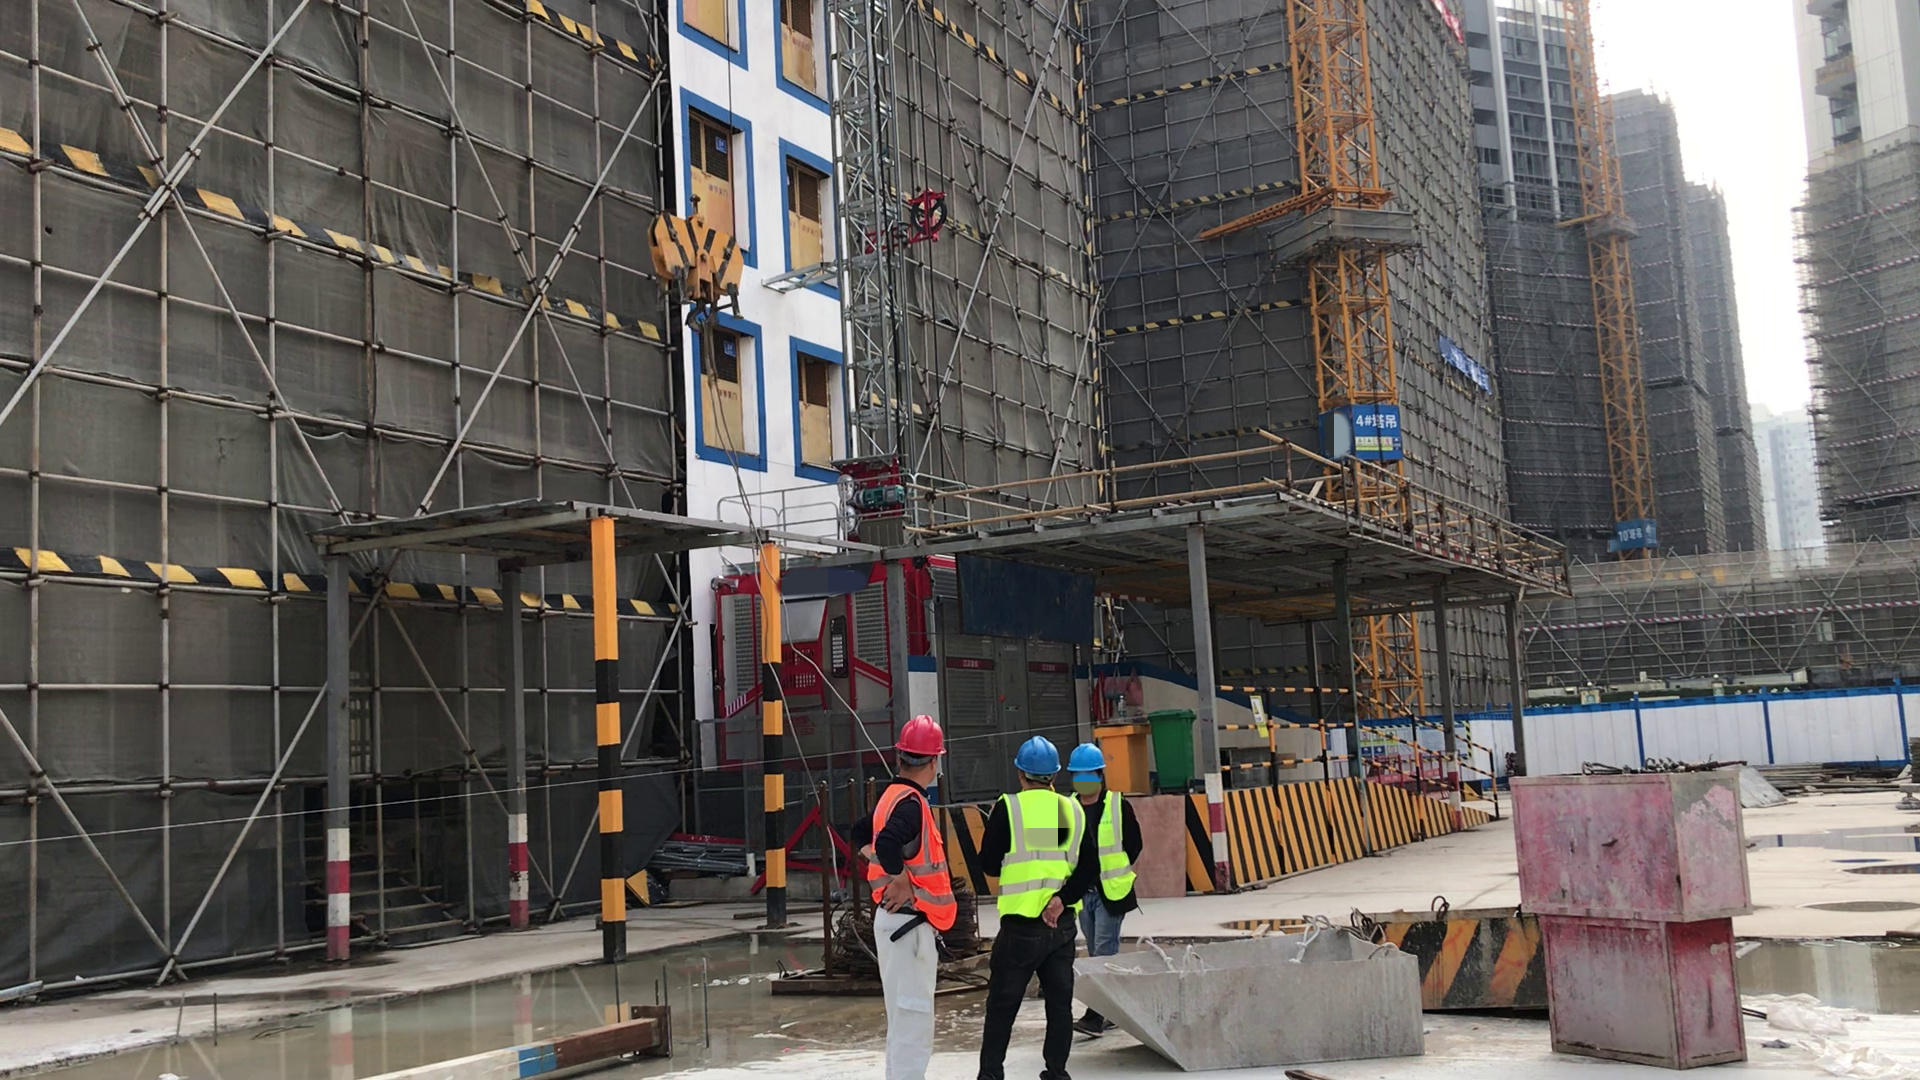helmet: (889, 716, 948, 771), (1013, 735, 1060, 787), (1064, 742, 1113, 784)
hook: (634, 186, 758, 349)
hopper: (1079, 919, 1432, 1072), (1357, 904, 1548, 1020)
person: (863, 712, 961, 1080), (978, 735, 1082, 1080), (1064, 740, 1144, 961)
slogan: (1439, 328, 1497, 399), (1347, 404, 1407, 459), (1603, 513, 1674, 554), (1248, 691, 1278, 739)
vest: (868, 783, 960, 933), (1001, 792, 1075, 919), (1075, 790, 1133, 907)
